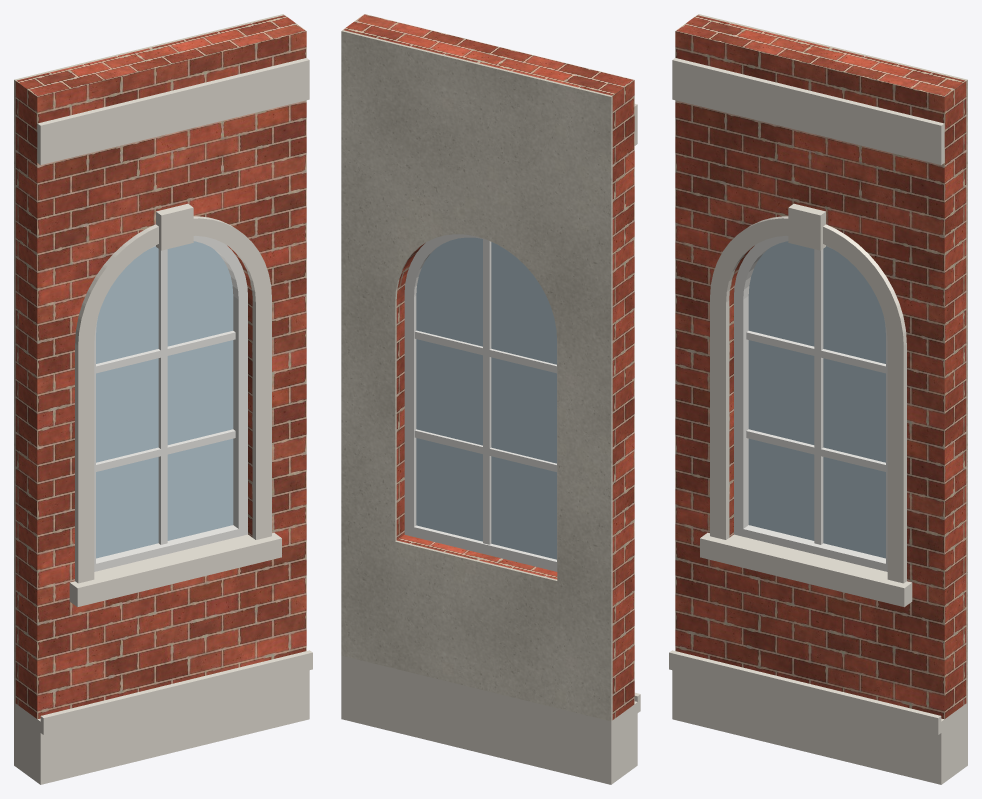
File: wall_window.glb
3 views of the same model, side by side, from view 1: azimuth 30°, elevation 25°; view 2: azimuth 150°, elevation 25°; view 3: azimuth 330°, elevation 25° (orthographic).
Visible parts, largest first — view 1: wall_window_brick, wall_window_lime, wall_window_glass, wall_window_frame, wall_window_plaster; view 2: wall_window_plaster, wall_window_glass, wall_window_brick, wall_window_lime, wall_window_frame; view 3: wall_window_brick, wall_window_lime, wall_window_glass, wall_window_frame, wall_window_plaster.
Part boxes in pixels (left/top/right/bottom): wall_window_brick: left=15, top=15, right=306, bottom=719; wall_window_lime: left=14, top=58, right=312, bottom=784; wall_window_glass: left=96, top=241, right=233, bottom=558; wall_window_frame: left=94, top=235, right=247, bottom=571; wall_window_plaster: left=14, top=14, right=284, bottom=702; wall_window_plaster: left=341, top=30, right=612, bottom=721; wall_window_glass: left=416, top=237, right=556, bottom=559; wall_window_brick: left=343, top=14, right=634, bottom=719; wall_window_lime: left=341, top=104, right=640, bottom=784; wall_window_frame: left=404, top=234, right=557, bottom=571; wall_window_brick: left=675, top=15, right=966, bottom=719; wall_window_lime: left=669, top=58, right=967, bottom=784; wall_window_glass: left=748, top=241, right=885, bottom=558; wall_window_frame: left=734, top=235, right=887, bottom=571; wall_window_plaster: left=697, top=14, right=967, bottom=702.
Size of the model in its own units: 2 by 4.87 by 0.4.
5 materials, 2 textured.
